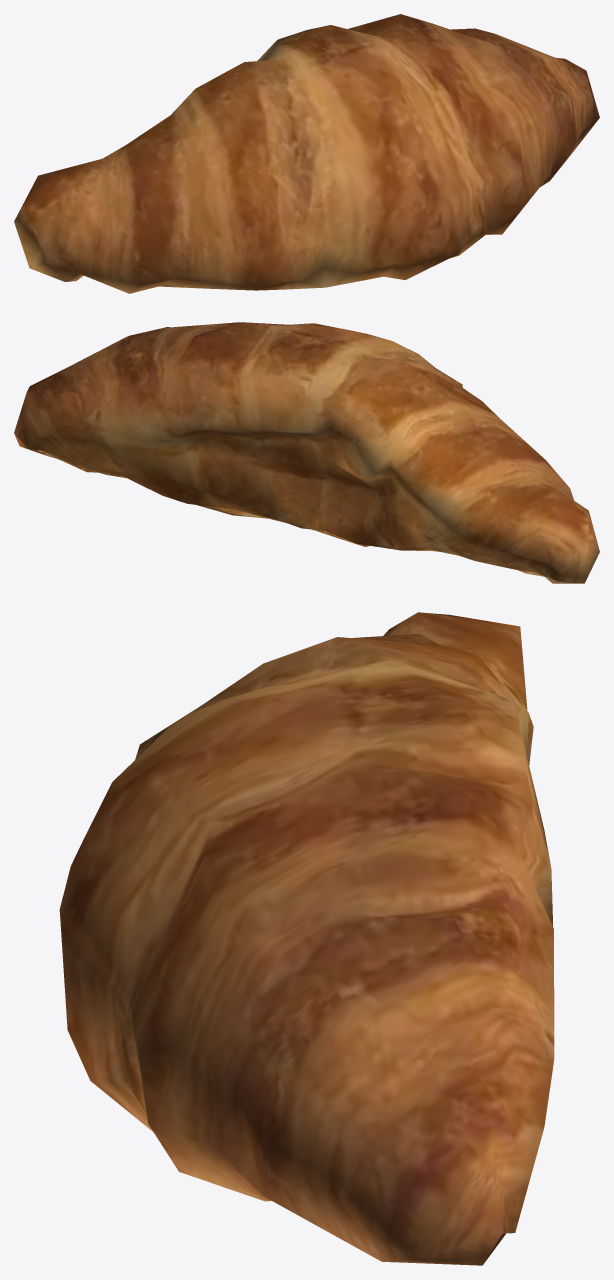
File: croissant.glb
3 renders of one model, top to bottom at view 1: azimuth 30°, elevation 25°; view 2: azimuth 150°, elevation 25°; view 3: azimuth 270°, elevation 25°, orthographic. The views are drawn at different scales.
Parts seen in each view (by area): view 1: croissant; view 2: croissant; view 3: croissant.
Boxes of the visible parts, x1,y1,x2,y2 form: croissant: (14, 14, 599, 293); croissant: (14, 322, 599, 583); croissant: (59, 612, 554, 1265).
Size of the model in its own units: 0.1996 by 0.062 by 0.0745.
Materials: 1 (1 with a texture image).
